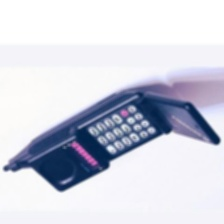phone: (0, 86, 223, 196)
